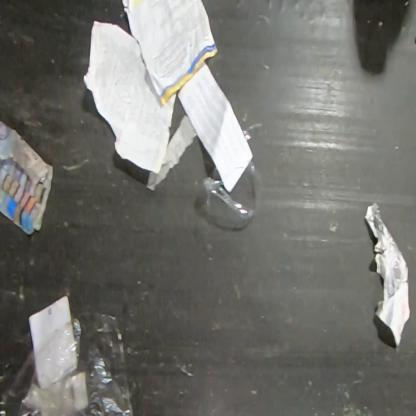soft_plastic: (0, 309, 135, 415), (198, 157, 260, 231)
